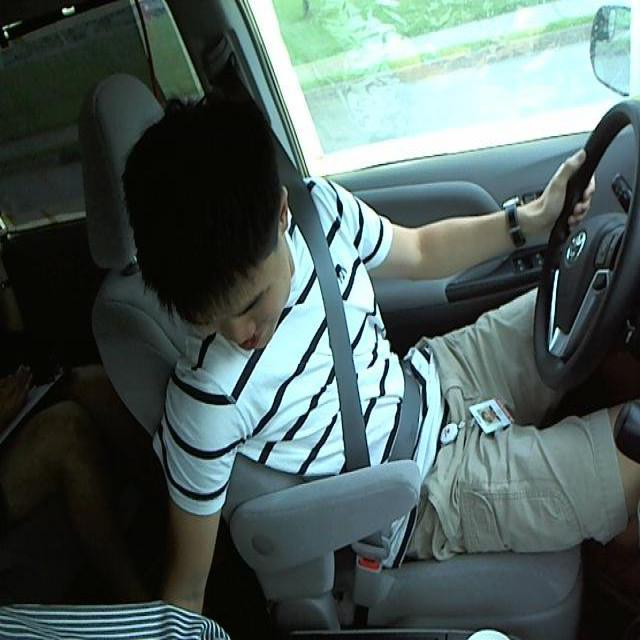seatbelt: (290, 201, 422, 484)
